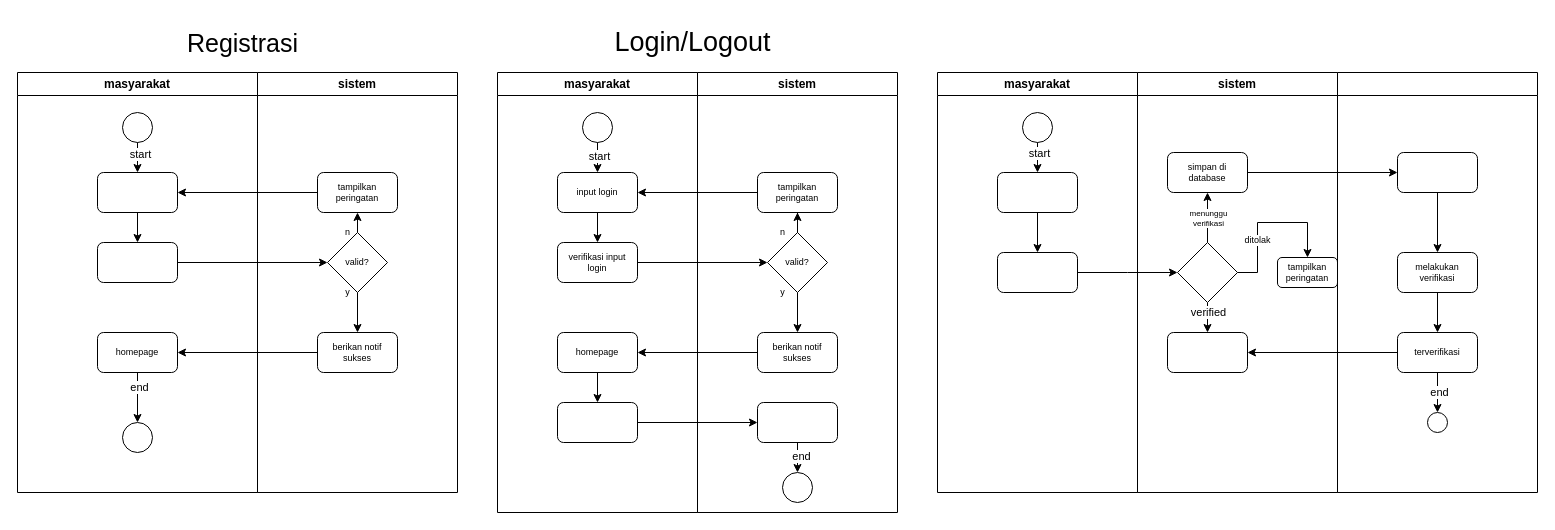
Some shapes in this 1555 by 530 pixel diagram are drawn without their labels. Here are the shapes that lost their labels. From the top down, the box of each, then its label:
(96, 172, 178, 212): input registrasi
(996, 172, 1078, 212): halaman laporan
(1396, 152, 1478, 192): mendapat notif
(96, 242, 178, 282): verifikasi input registrasi
(996, 252, 1078, 292): input laporan
(1176, 242, 1238, 302): status?
(1336, 72, 1538, 492): admin & petugas
(1166, 332, 1248, 372): tampilkan di list laporan
(556, 402, 638, 442): pencet tombol logout
(756, 402, 838, 442): session end
